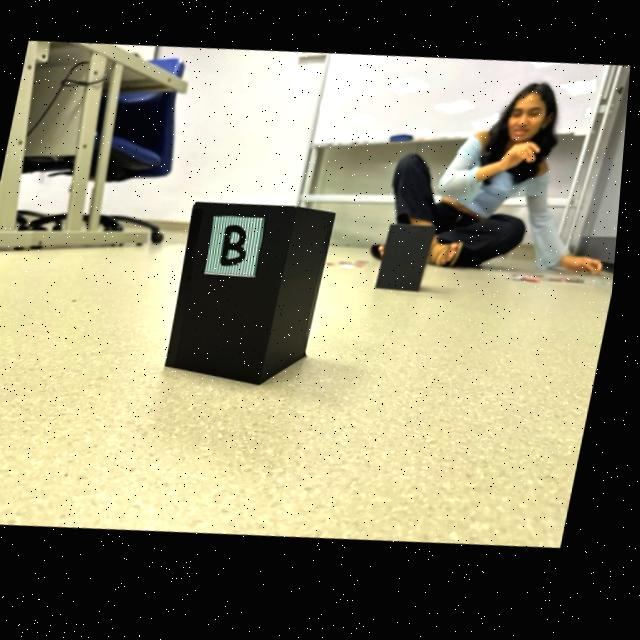B: (224, 229, 250, 269)
